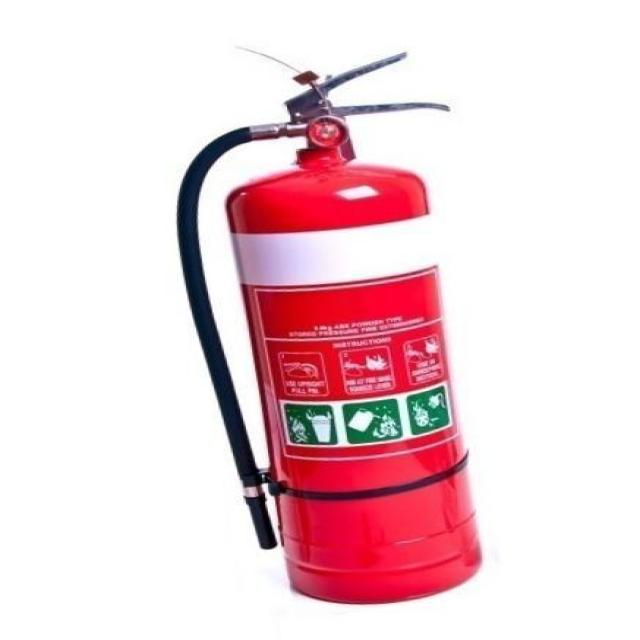fire_extinguisher: (168, 48, 488, 608)
